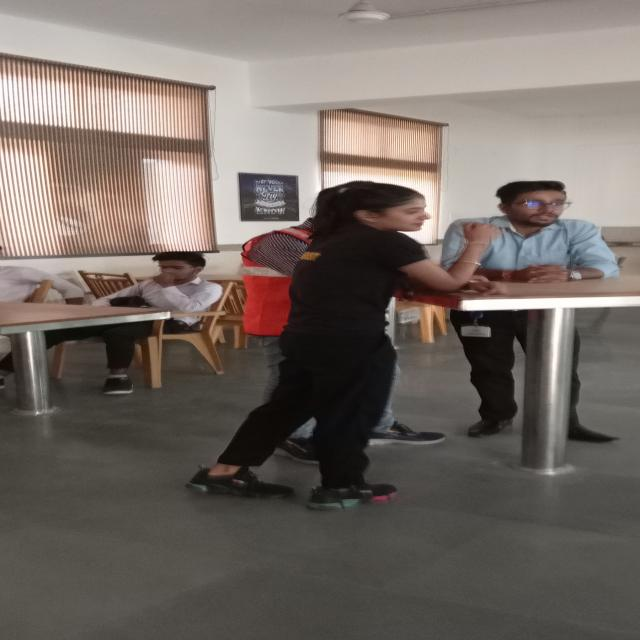unsafe: (284, 168, 498, 509), (85, 250, 217, 395), (428, 184, 628, 278)
